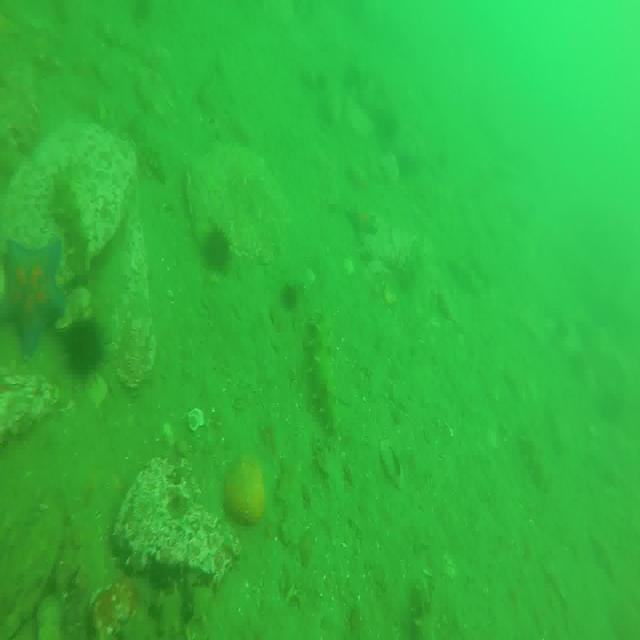echinus: (60, 314, 106, 374), (203, 220, 234, 272), (146, 558, 174, 594), (276, 279, 302, 314)
holothurian: (306, 299, 341, 432), (50, 176, 91, 280), (131, 115, 166, 185), (411, 574, 440, 640), (526, 428, 548, 492)
starfish: (1, 238, 68, 360)
